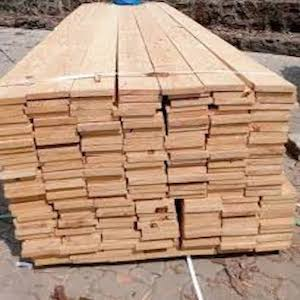combustible: (9, 71, 292, 257), (81, 3, 200, 68)
